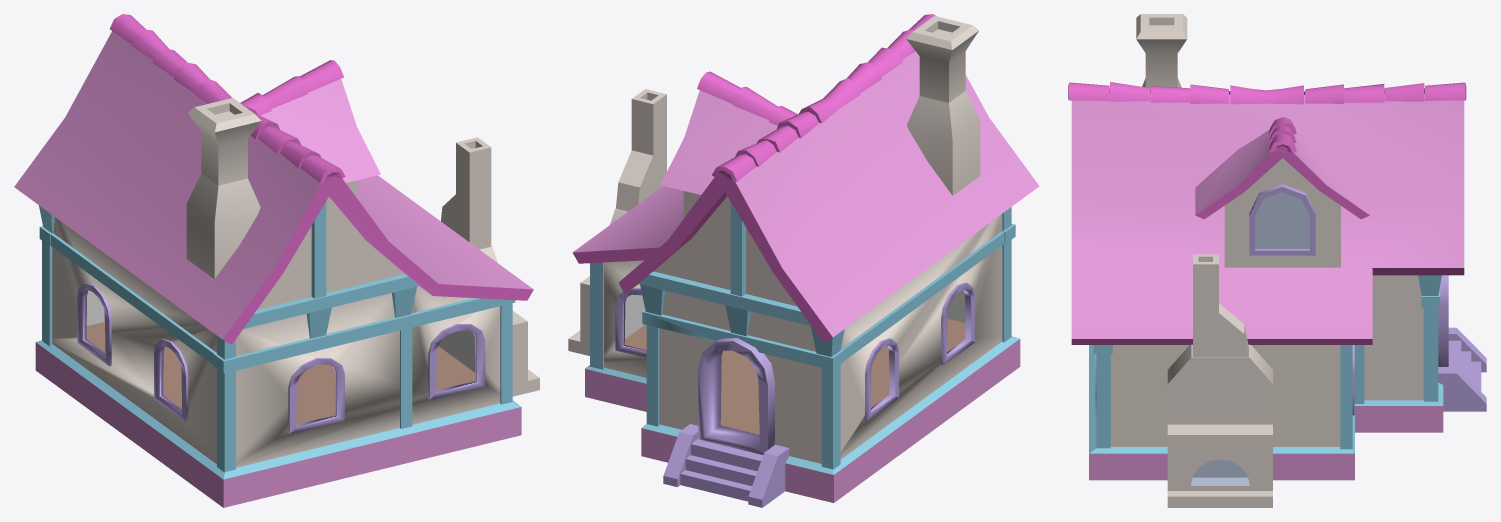
File: haus.fbx
The picture shows the model from 3 angles, left to right: view 1: azimuth 30°, elevation 25°; view 2: azimuth 150°, elevation 25°; view 3: azimuth 270°, elevation 25°; orthographic projection. The views are drawn at different scales.
Parts seen in each view (by area): view 1: haus, floor, türrahmen.002, türrahmen.003, Cube.005, türrahmen.004, türrahmen.005; view 2: haus, türrahmen, floor, türrahmen.005, türrahmen.004, türrahmen.001, Cube.005; view 3: haus, türrahmen.
Part boxes in pixels (left/top/right/bottom): haus: left=14, top=14, right=539, bottom=507; floor: left=86, top=322, right=475, bottom=424; türrahmen.002: left=428, top=324, right=485, bottom=399; türrahmen.003: left=288, top=358, right=344, bottom=434; Cube.005: left=86, top=290, right=475, bottom=372; türrahmen.004: left=154, top=339, right=188, bottom=422; türrahmen.005: left=77, top=283, right=111, bottom=366; haus: left=568, top=14, right=1039, bottom=507; türrahmen: left=698, top=338, right=774, bottom=454; floor: left=624, top=318, right=965, bottom=434; türrahmen.005: left=865, top=338, right=898, bottom=420; türrahmen.004: left=941, top=282, right=974, bottom=365; türrahmen.001: left=615, top=288, right=646, bottom=357; Cube.005: left=625, top=294, right=645, bottom=338; haus: left=1068, top=14, right=1486, bottom=507; türrahmen: left=1438, top=275, right=1448, bottom=366.
Bounding box in the file's own units: 950 × 889 × 992.
